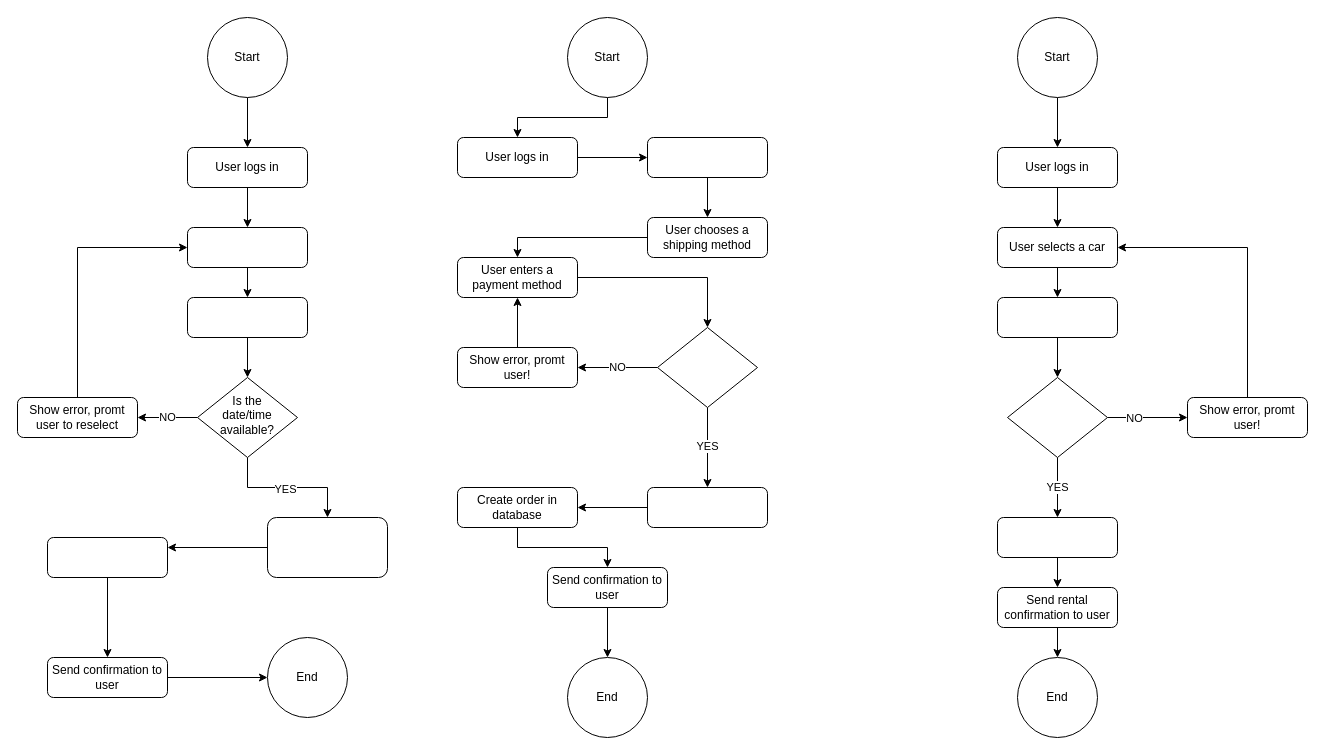
Image size: 1325x755. Some labels were removed from this diagram. Here are the shapes that lost their labels. From the top down, the box of each, then its label:
(646, 136, 768, 178): User selects a product
(186, 226, 308, 268): User selects a restaurant
(186, 296, 308, 338): User chooses a date and time
(996, 296, 1118, 338): User chooses a rental period
(656, 326, 758, 408): Is payment info valid?
(1006, 376, 1108, 458): Is the car available?
(646, 486, 768, 528): Proces payment
(46, 536, 168, 578): Send reservation confirmation to user
(266, 516, 388, 578): Confirm and update reservation, notify the restaurant.
(996, 516, 1118, 558): Reserve and update the database
